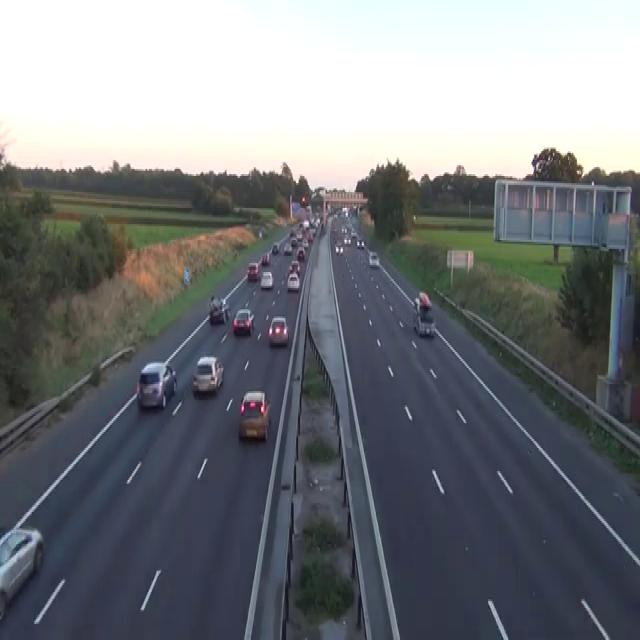Car: (0, 524, 44, 620), (136, 361, 177, 409), (238, 389, 271, 441), (192, 356, 223, 394), (232, 308, 255, 336), (208, 295, 230, 324), (267, 315, 288, 345), (209, 304, 225, 324), (286, 272, 300, 292), (246, 261, 259, 281), (418, 290, 431, 309), (260, 270, 273, 288), (369, 250, 379, 266), (289, 260, 300, 274), (334, 238, 343, 254), (260, 251, 270, 265), (283, 242, 292, 254), (296, 247, 304, 260), (356, 238, 364, 249), (272, 242, 279, 254), (302, 219, 309, 231), (343, 235, 351, 245), (296, 229, 303, 240), (306, 231, 313, 242), (302, 238, 308, 249), (342, 206, 348, 217), (350, 230, 358, 238), (446, 182, 454, 190), (290, 237, 297, 246), (300, 196, 306, 206), (289, 228, 296, 236), (258, 228, 262, 238), (413, 213, 416, 224)
Truck: (413, 290, 435, 338)
